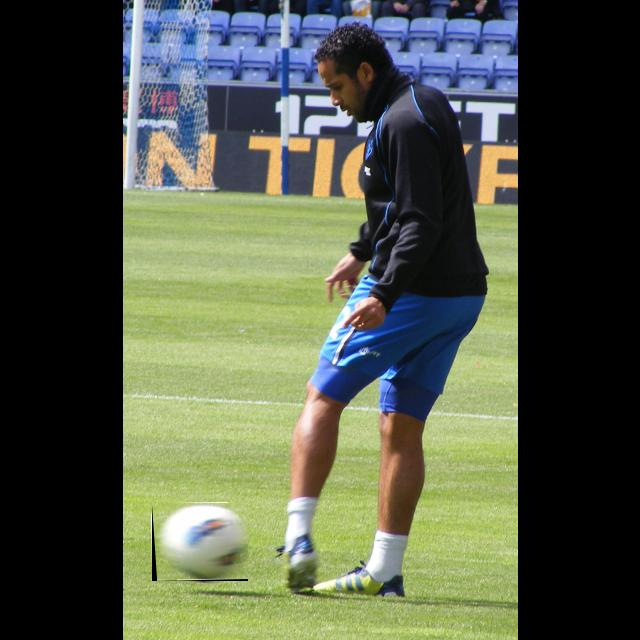Football: (152, 503, 248, 581)
